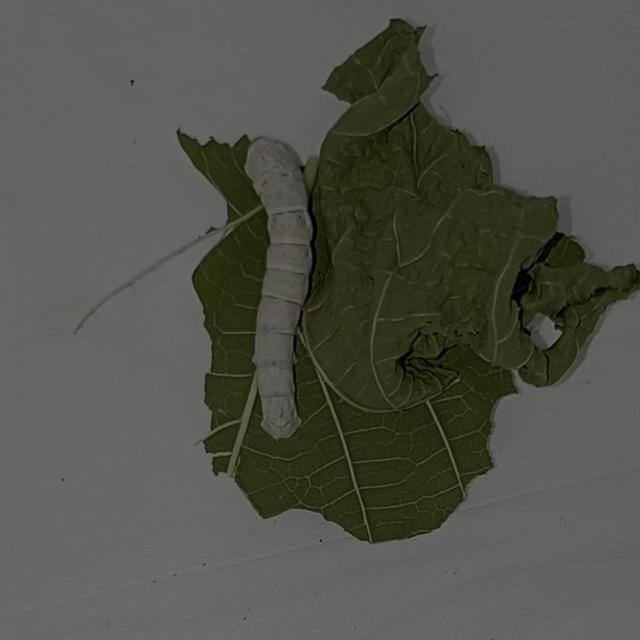Healthy: (199, 111, 342, 488)
